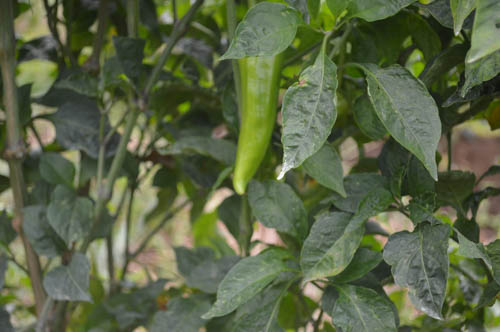ChiliPepper: (230, 55, 284, 201)
